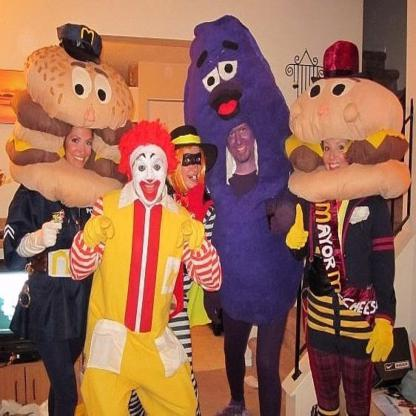face: (132, 145, 168, 204), (177, 142, 205, 192), (227, 115, 255, 165), (323, 136, 353, 179), (66, 127, 95, 170)
